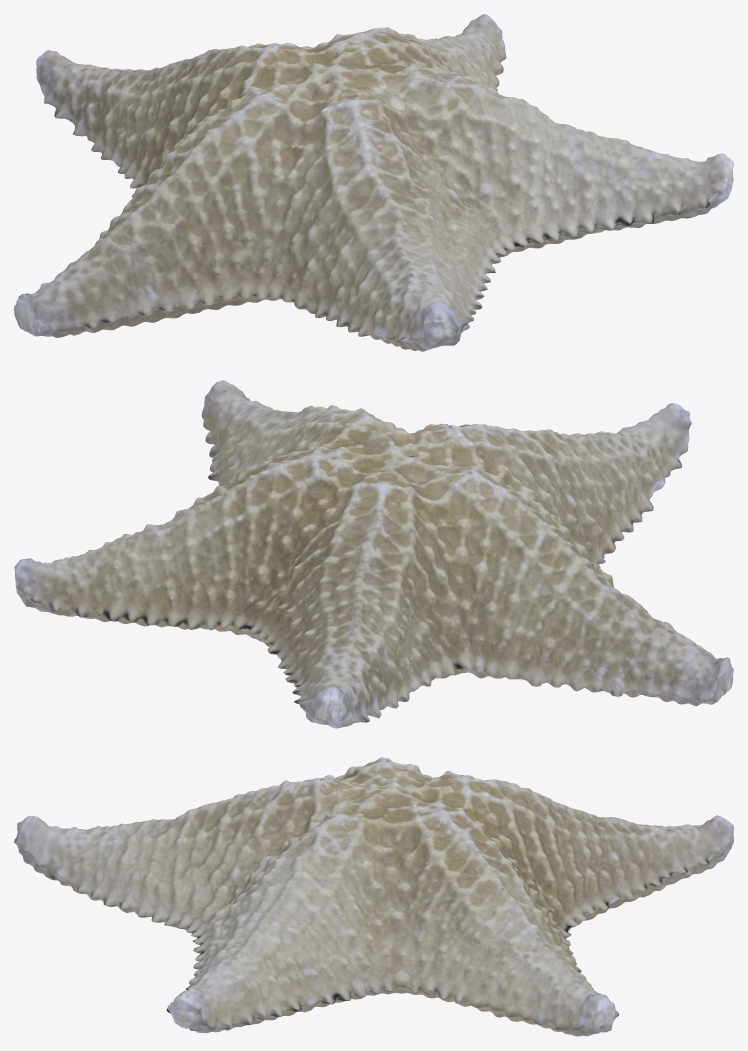
The model's file is Seastar.glb.
The picture shows the model from 3 angles, top to bottom: view 1: azimuth 30°, elevation 25°; view 2: azimuth 150°, elevation 25°; view 3: azimuth 270°, elevation 25°; orthographic projection. The views are drawn at different scales.
Visible parts, largest first — view 1: Object_2; view 2: Object_2; view 3: Object_2.
Boxes of the visible parts, x1,y1,x2,y2 form: Object_2: (14, 14, 733, 351); Object_2: (14, 380, 733, 728); Object_2: (14, 757, 733, 1036).
Size of the model in its own units: 2.3 by 0.6763 by 2.49.
Materials: 1 (1 with a texture image).
